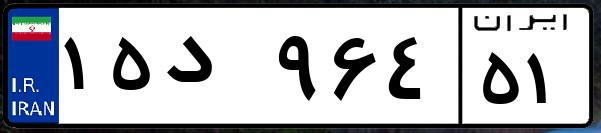1: (57, 26, 110, 100), (525, 38, 570, 115)
4: (385, 28, 445, 110)
5: (475, 38, 525, 113), (110, 28, 158, 98)
6: (330, 28, 385, 110)
9: (270, 28, 330, 110)
د: (158, 20, 270, 120)
